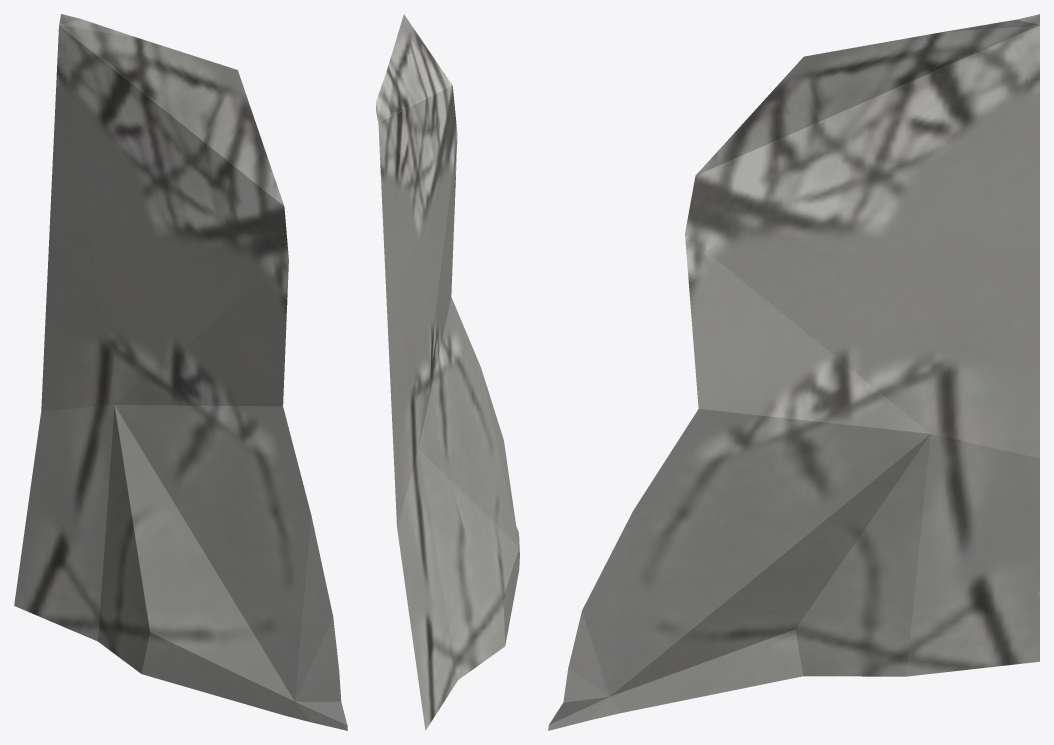
3 views of the same model, side by side, from view 1: azimuth 30°, elevation 25°; view 2: azimuth 150°, elevation 25°; view 3: azimuth 270°, elevation 25° (orthographic). The views are drawn at different scales.
Size of the model in its own units: 0.1844 by 0.8373 by 0.5535.
Materials: 2 (2 with a texture image).
